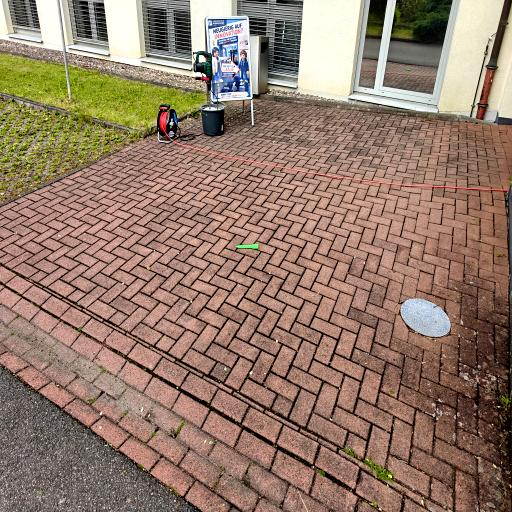Probe-Detection: (236, 244, 258, 249)
